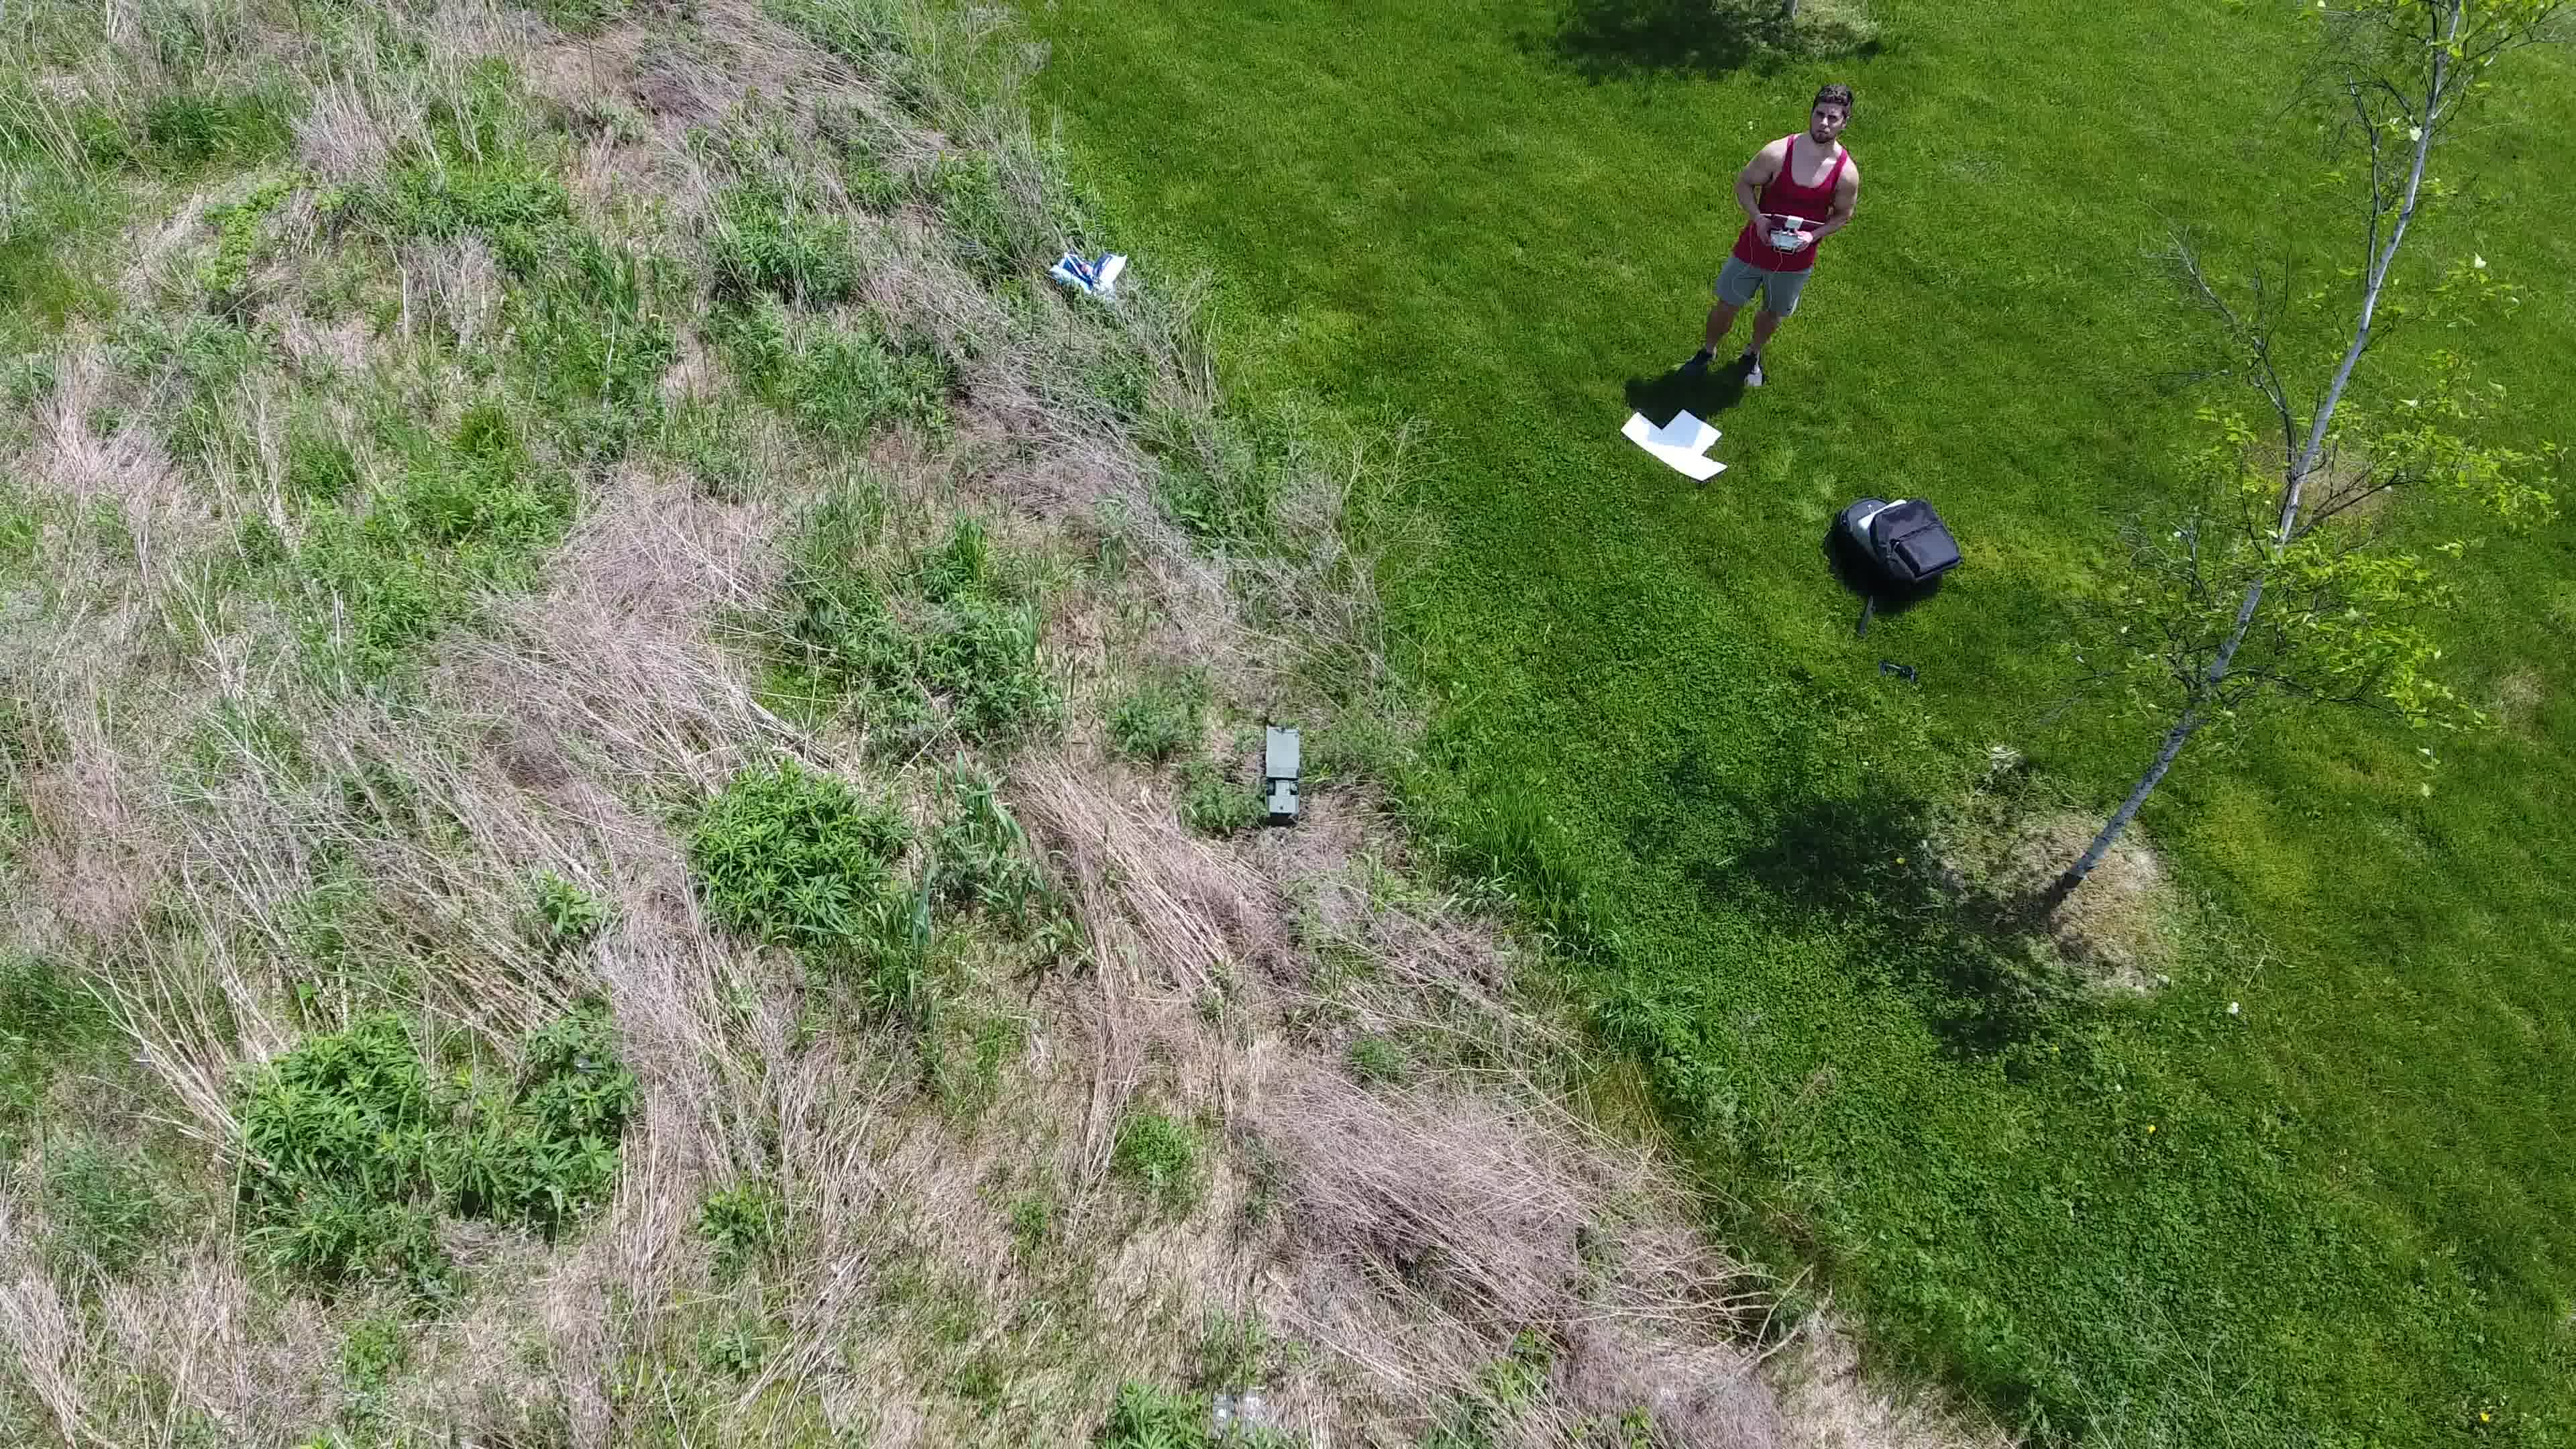transporter9: (1263, 724, 1304, 823)
